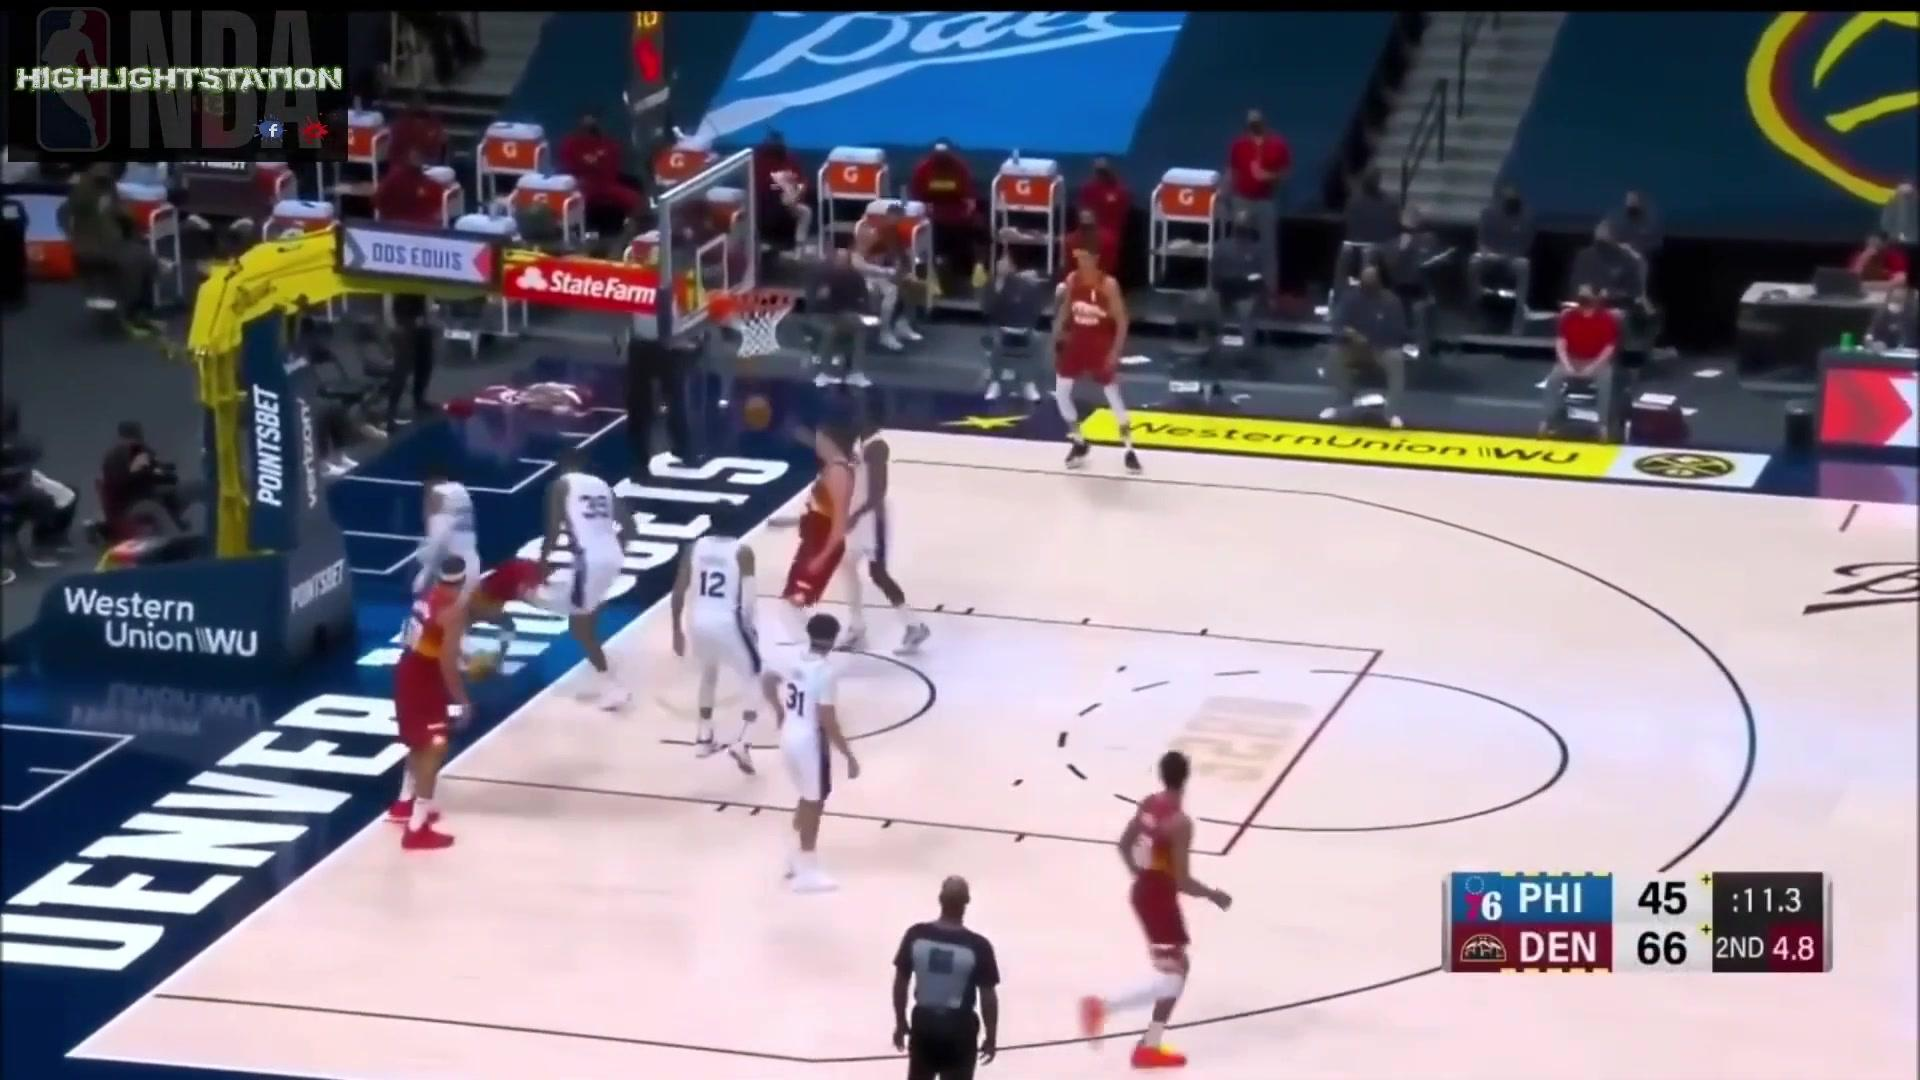no_foul: (778, 384, 939, 637)
